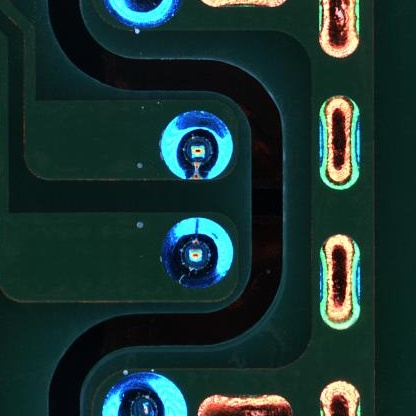spot: (160, 215, 233, 288), (161, 110, 234, 181), (99, 371, 187, 416), (102, 1, 181, 31)
